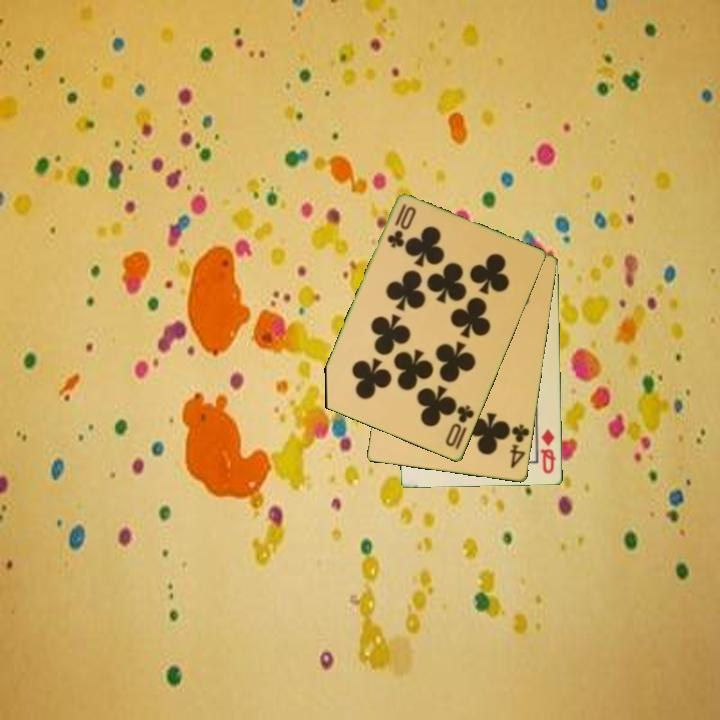10c: (442, 402, 477, 453), (384, 200, 419, 251)
4c: (507, 421, 532, 471)
Qd: (538, 426, 559, 477)
